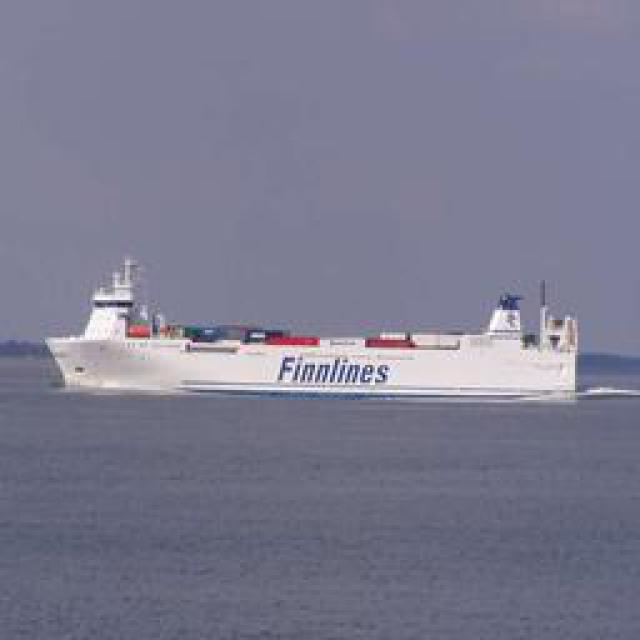Ship: (51, 250, 586, 409)
